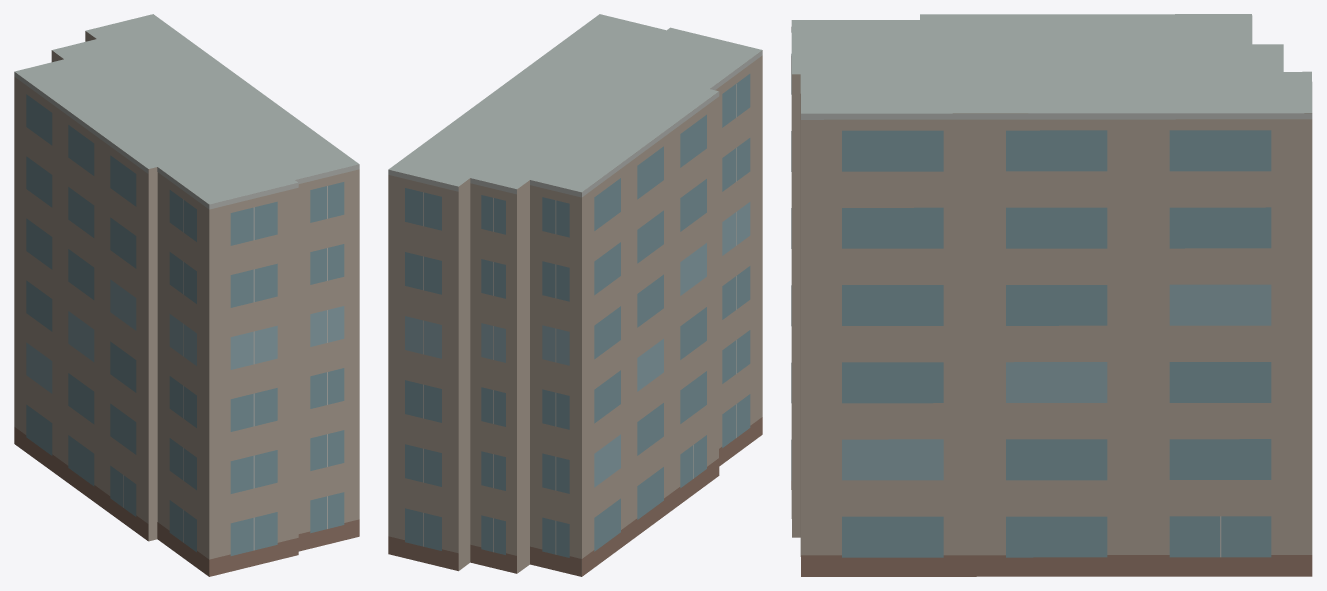
Rendered from survey-upis-32872600.glb.
The picture shows the model from 3 angles, left to right: view 1: azimuth 30°, elevation 25°; view 2: azimuth 150°, elevation 25°; view 3: azimuth 270°, elevation 25°; orthographic projection. The views are drawn at different scales.
Parts seen in each view (by area): view 1: survey-upis-32872600.tmp; view 2: survey-upis-32872600.tmp; view 3: survey-upis-32872600.tmp.
Part boxes in pixels (left/top/right/bottom): survey-upis-32872600.tmp: left=14, top=14, right=359, bottom=576; survey-upis-32872600.tmp: left=388, top=14, right=762, bottom=576; survey-upis-32872600.tmp: left=791, top=14, right=1312, bottom=576.
Size of the model in its own units: 8.36 by 18.11 by 18.46.
